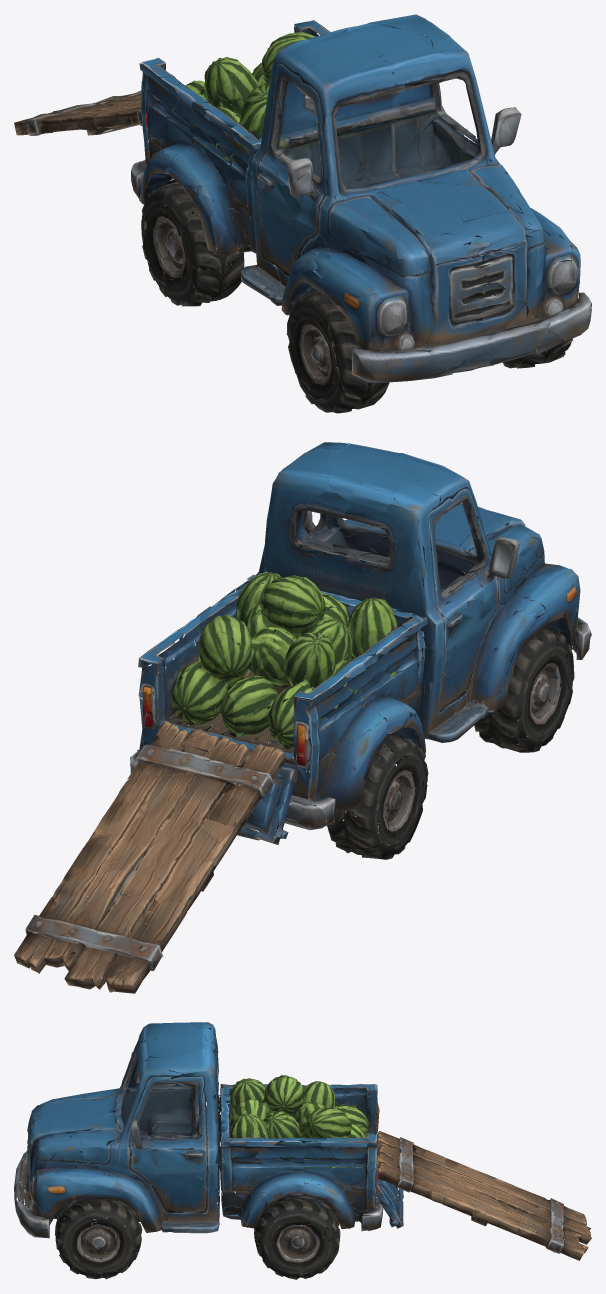
Rendered from RampTruck.fbx.
3 views of the same model, one above another, from view 1: azimuth 30°, elevation 25°; view 2: azimuth 150°, elevation 25°; view 3: azimuth 270°, elevation 25° (orthographic). The views are drawn at different scales.
Visible parts, largest first — view 1: RampTruck; view 2: RampTruck; view 3: RampTruck.
Boxes of the visible parts, x1,y1,x2,y2 form: RampTruck: (14,14,591,413); RampTruck: (14,442,591,993); RampTruck: (14,1022,591,1279).
Size of the model in its own units: 2.1 by 2.52 by 6.5.
Materials: 1 (1 with a texture image).
